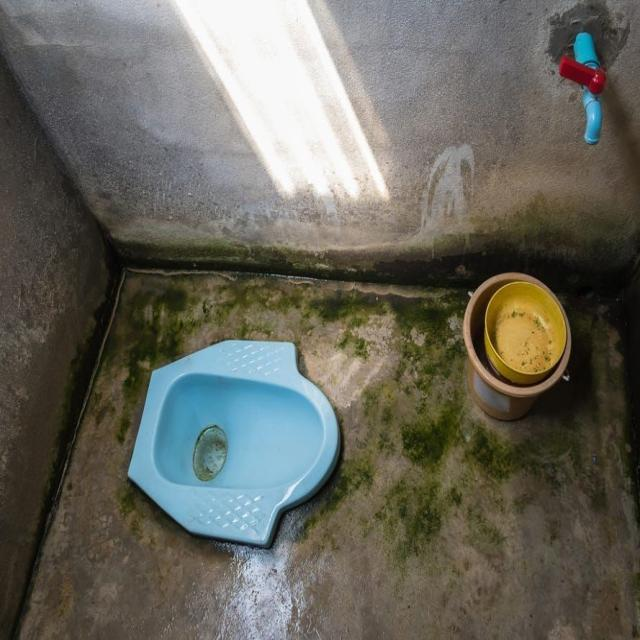dirty_floor: (13, 265, 638, 637)
